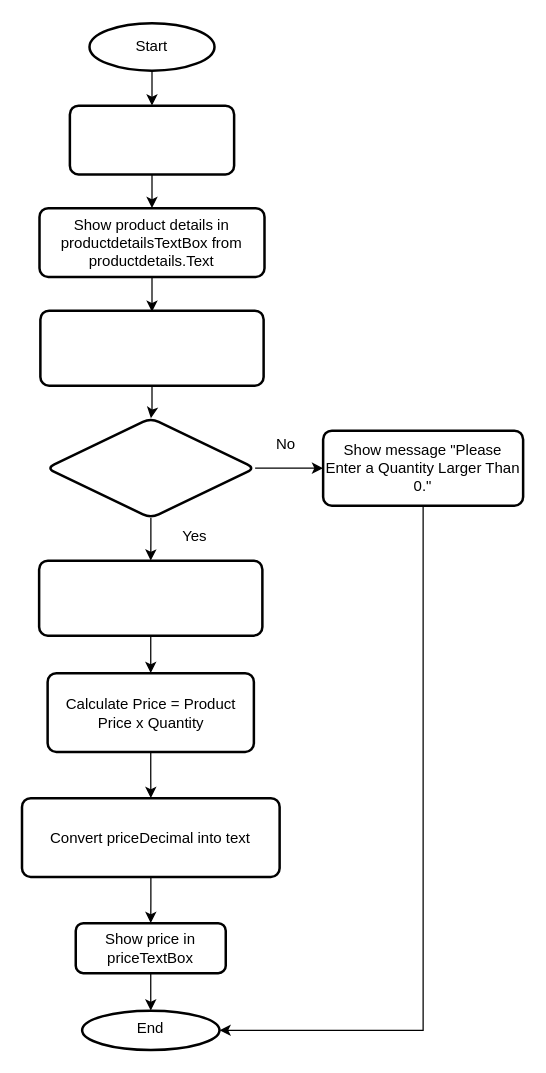
Image size: 546x1073. Some labels were removed from this diagram. Here are the shapes that lost their labels. From the top down, the centre of each, then its label:
At (151,139): "Show product name in productTextBox from product.Text".
At (151,347): "Get quantity from quantityTextBox: quantityInteger".
At (150,467): "Is quantity > 0?".
At (150,597): "Get product price from priceTextBox: priceDecimal".
